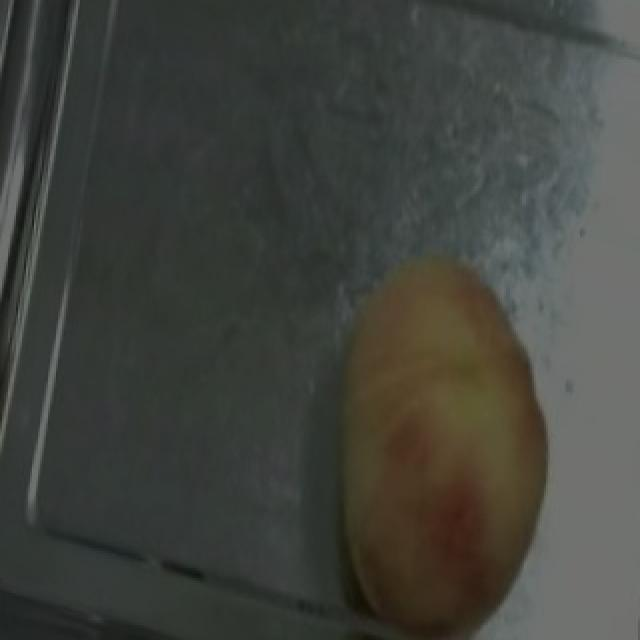Fruit: (290, 224, 590, 596)
